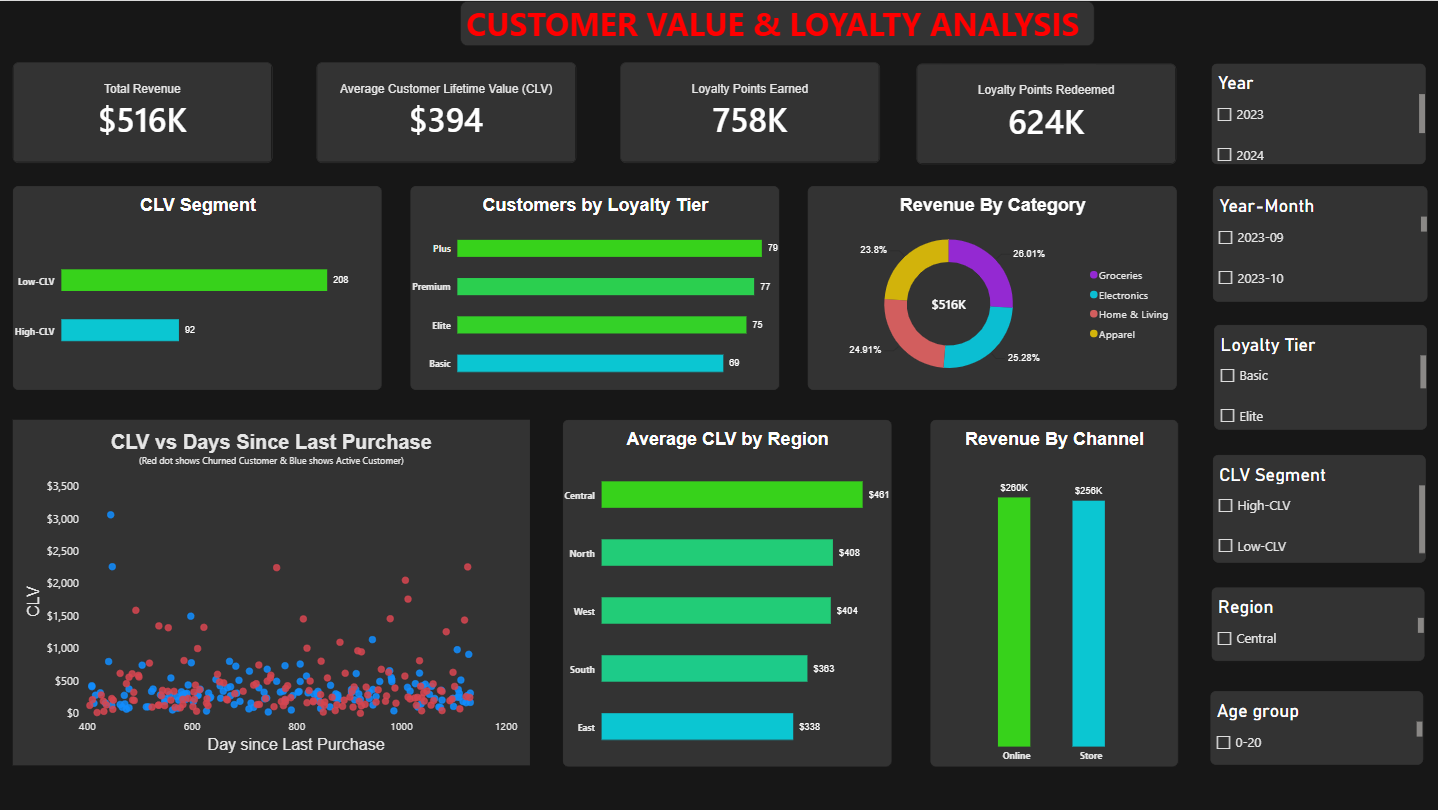

The dashboard page shown, as its layout file describes it:
{"tool":"powerbi","page":{"name":"Page 7","canvas":[1920,1080],"ordinal":1},"visuals":[{"type":"cardVisual","title":"Total Revenue","fields":{"Data":["Key Measures (2).Total Revenue"]},"box":[18,82,346,134],"z":0},{"type":"cardVisual","fields":{"Data":["Key Measures (2).Average CLV"]},"box":[424,82,346,134],"z":1000},{"type":"cardVisual","fields":{"Data":["Key Measures (2).Total Loyalty Points Earned"]},"box":[828,82,346,134],"z":2000},{"type":"cardVisual","fields":{"Data":["Key Measures (2).Total Loyalty Points Redeemed"]},"box":[1224,84,346,134],"z":3000},{"type":"barChart","title":"CLV Segment","fields":{"Category":["Customer_Demographics.CLV Segment"],"Y":["CountNonNull(Customer_Demographics.Customer_ID)"]},"box":[18.5,247,492,272],"z":4000},{"type":"scatterChart","title":"CLV vs Days Since Last Purchase","fields":{"Category":["Customer_Demographics.Customer_ID"],"Series":["Churn_Labelled_Customers.Churn_Status"],"X":["Sum(Customer_Demographics.Days_since_last_purchase)"],"Y":["Sum(Customer_Demographics.CLV)"]},"box":[18.5,557.8,689.5,461.1],"z":5000},{"type":"barChart","title":"Customers by Loyalty Tier","fields":{"Category":["Loyalty_Program.Loyalty_Tier"],"Y":["CountNonNull(Customer_Demographics.Customer_ID)"]},"box":[547.5,247,492,272],"z":6000},{"type":"barChart","title":"Average CLV by Region","fields":{"Category":["Customer_Demographics.Region"],"Y":["Avg(Customer_Demographics.CLV)"]},"box":[751.3,557.8,438,462],"z":7000},{"type":"columnChart","title":"Revenue By Channel","fields":{"Category":["Customer_Demographics.Preferred_Channel"],"Y":["Sum(Customer_Transactions.Amount)"]},"box":[1241.2,557.8,330,462],"z":8000},{"type":"donutChart","title":"Revenue By Category","fields":{"Category":["Customer_Transactions.Product_Category"],"Y":["Sum(Customer_Transactions.Amount)"]},"box":[1078.6,247,492,272],"z":9000},{"type":"slicer","fields":{"Values":["Customer_Demographics.Age_group"]},"box":[1615,919.2,284,98.8],"z":10000},{"type":"slicer","fields":{"Values":["Customer_Demographics.Region"]},"box":[1615.8,781.7,284,98.8],"z":11000},{"type":"slicer","fields":{"Values":["Customer_Demographics.CLV Segment"]},"box":[1617.5,604.2,284,144.1],"z":12000},{"type":"slicer","fields":{"Values":["Loyalty_Program.Loyalty_Tier"]},"box":[1620,432,284,140],"z":13000},{"type":"slicer","fields":{"Values":["Customer_Transactions.Transaction_year_month"]},"box":[1618,246,286,154],"z":14000},{"type":"slicer","fields":{"Values":["Customer_Transactions.Transaction_year"]},"box":[1617.1,82.9,285.7,134.3],"z":15000},{"type":"textbox","box":[615.4,0,846,59.7],"z":16000}]}

Visuals, with their boxes in screenshot pixels (x1, y1, x2, y2), scaled from the page's 1920x1080 canvas onto the 1438x810 screenshot:
"Total Revenue" cardVisual: BBox(13, 62, 273, 162)
cardVisual - Key Measures (2).Average CLV: BBox(318, 62, 577, 162)
cardVisual - Key Measures (2).Total Loyalty Points Earned: BBox(620, 62, 879, 162)
cardVisual - Key Measures (2).Total Loyalty Points Redeemed: BBox(917, 63, 1176, 164)
"CLV Segment" barChart: BBox(14, 185, 382, 389)
"CLV vs Days Since Last Purchase" scatterChart: BBox(14, 418, 530, 764)
"Customers by Loyalty Tier" barChart: BBox(410, 185, 779, 389)
"Average CLV by Region" barChart: BBox(563, 418, 891, 765)
"Revenue By Channel" columnChart: BBox(930, 418, 1177, 765)
"Revenue By Category" donutChart: BBox(808, 185, 1176, 389)
slicer - Customer_Demographics.Age_group: BBox(1210, 689, 1422, 764)
slicer - Customer_Demographics.Region: BBox(1210, 586, 1423, 660)
slicer - Customer_Demographics.CLV Segment: BBox(1211, 453, 1424, 561)
slicer - Loyalty_Program.Loyalty_Tier: BBox(1213, 324, 1426, 429)
slicer - Customer_Transactions.Transaction_year_month: BBox(1212, 184, 1426, 300)
slicer - Customer_Transactions.Transaction_year: BBox(1211, 62, 1425, 163)
textbox: BBox(461, 0, 1095, 45)
